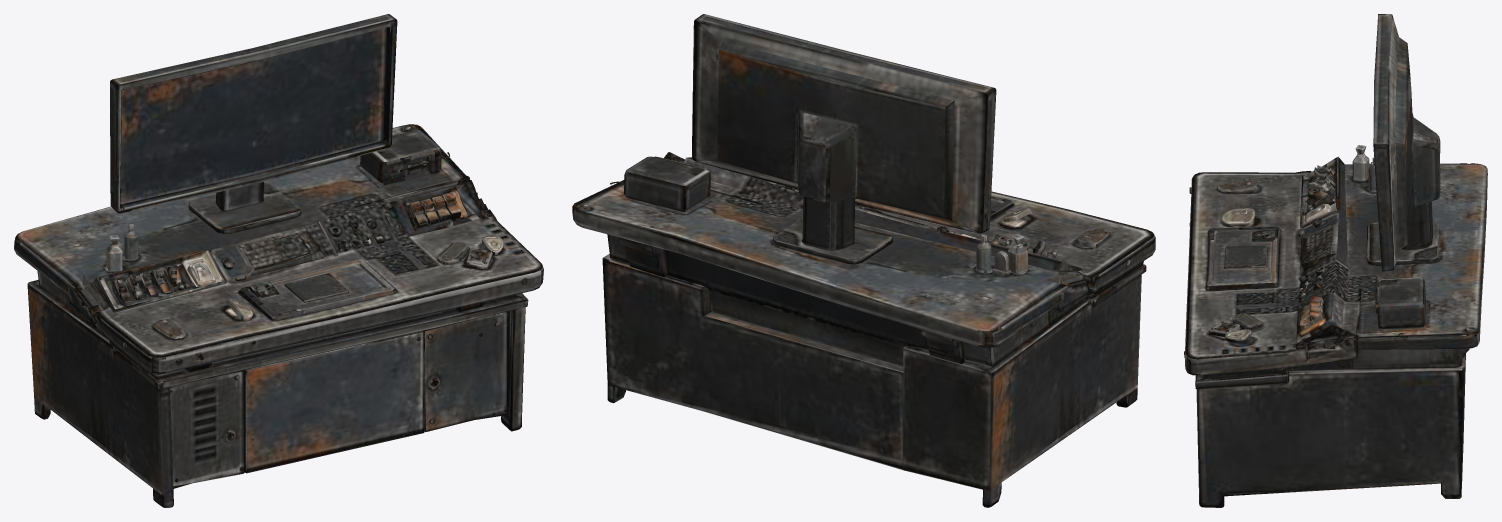
Rendered from Zombie Multiplier Table.glb.
3 views of the same model, side by side, from view 1: azimuth 30°, elevation 25°; view 2: azimuth 150°, elevation 25°; view 3: azimuth 270°, elevation 25° (orthographic). The views are drawn at different scales.
Visible parts, largest first — view 1: tripo_node_618b9d75-91d7-441b-9a83-04114eac5592; view 2: tripo_node_618b9d75-91d7-441b-9a83-04114eac5592; view 3: tripo_node_618b9d75-91d7-441b-9a83-04114eac5592.
Part boxes in pixels (x1,y1,x2,y2): tripo_node_618b9d75-91d7-441b-9a83-04114eac5592: [14, 14, 543, 507]; tripo_node_618b9d75-91d7-441b-9a83-04114eac5592: [572, 14, 1155, 507]; tripo_node_618b9d75-91d7-441b-9a83-04114eac5592: [1184, 14, 1487, 507].
Size of the model in its own units: 0.9995 by 0.8296 by 0.6597.
1 material, 1 textured.
